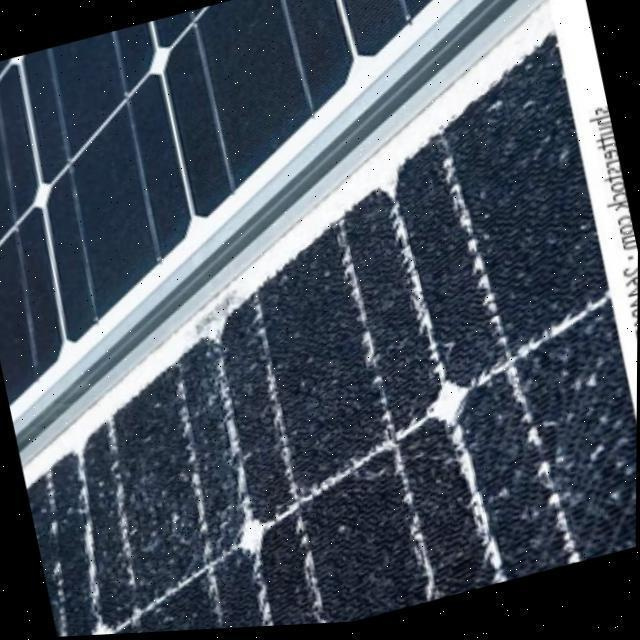Anomaly Solar Panel: (19, 0, 637, 638)
Structural Damage: (26, 39, 608, 638), (350, 298, 637, 618)
